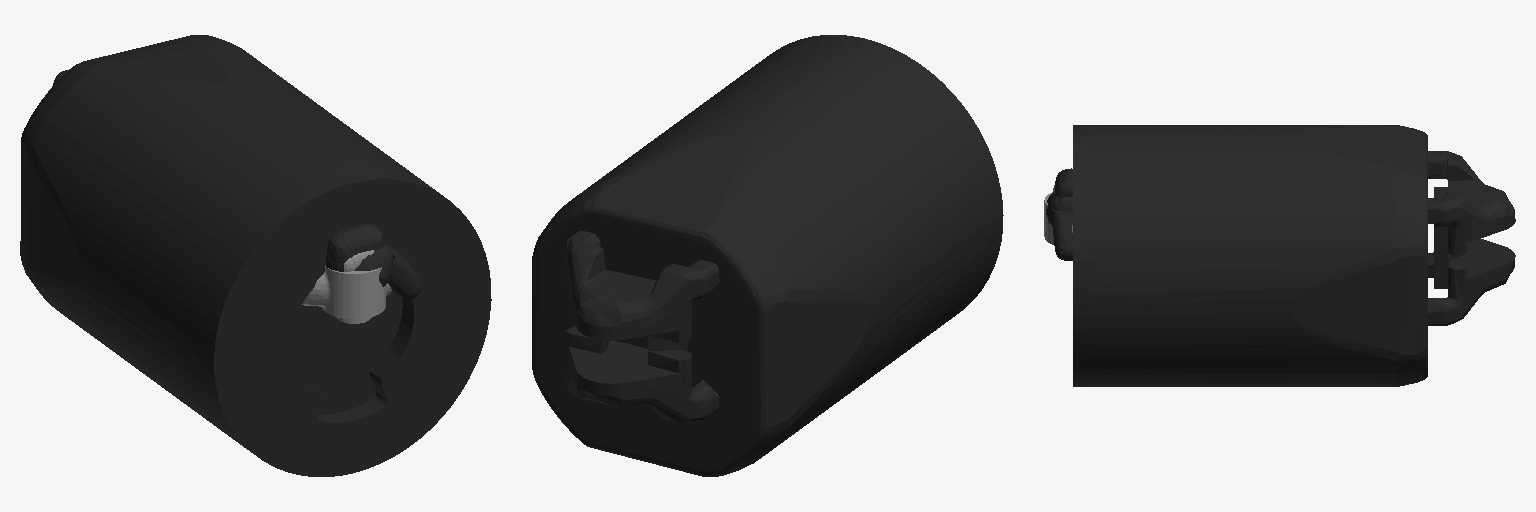
robot.urdf — shadowhand:
<?xml version="1.0" ?>
<robot name="shadowhand">
  <material name="Blue">
    <color rgba="0.0 0.0 0.8 1.0" />
  </material>
  <material name="Green">
    <color rgba="0.0 0.8 0.0 1.0" />
  </material>
  <material name="Grey">
    <color rgba="0.2 0.2 0.2 1.0" />
  </material>
  <material name="LightGrey">
    <color rgba="0.6 0.6 0.6 1.0" />
  </material>
  <material name="Red">
    <color rgba="0.8 0.0 0.0 1.0" />
  </material>
  <material name="White">
    <color rgba="1.0 1.0 1.0 1.0" />
  </material>
  <link name="forearm">
    <inertial>
      <origin rpy="0 0 0" xyz="0 0 0.09" />
      <mass value="3.0" />
      <inertia ixx="1.0" ixy="0.0" ixz="0.0" iyy="1.0" iyz="0.0" izz="1.0" />
    </inertial>
    <visual>
      <origin rpy="0 0 0" xyz="0 0 0" />
      <geometry name="shadow_forearm_geom">
        <mesh filename="meshes/forearm.obj"/>
      </geometry>
      <material name="Grey" />
    </visual>
    <collision>
      <origin rpy="0 0 0" xyz="0 0 0.09" />
      <geometry name="shadow_forearm_collision">
        <cylinder length="0.180" radius="0.06" />
      </geometry>
    </collision>
  </link>
  <link name="wrist">
    <inertial>
      <origin rpy="0 0 0" xyz="0 0.0 0.0" />
      <mass value="0.1" />
      <inertia ixx="0.120" ixy="0.0" ixz="0.0" iyy="0.148" iyz="0.0" izz="0.0438" />
    </inertial>
    <visual>
      <origin rpy="0 0 0" xyz="0 0 0" />
      <geometry name="wrist_visual">
        <mesh filename="meshes/wrist.obj"/>
      </geometry>
      <material name="LightGrey" />
    </visual>
    <collision>
      <origin rpy="0 0 0" xyz="0 0 0" />
      <geometry name="wrist_collision_geom">
        <box size="0.02 0.02 0.02" />
      </geometry>
    </collision>
  </link>
  <joint name="WRJ2" type="revolute">
    <parent link="forearm" />
    <child link="wrist" />
    <origin rpy="0 0 0" xyz="0 -0.010 0.213" />
    <axis xyz="0 1 0" />
    <limit effort="5" lower="-0.52359877559829882" upper="0.17453292519943295" velocity="1.0" />
    <dynamics damping="100.5" />
  </joint>
  <link name="palm">
    <inertial>
      <origin rpy="0 0 0" xyz="0 0 0.035" />
      <mass value="0.3" />
      <inertia ixx="0.5" ixy="0.0" ixz="0.0" iyy="0.5" iyz="0.0" izz="0.3" />
    </inertial>
    <visual>
      <origin rpy="0 0 0" xyz="0 0 0" />
      <geometry name="palm_visual">
        <mesh filename="meshes/palm.obj"/>
      </geometry>
      <material name="Grey" />
    </visual>
    <collision>
      <origin rpy="0 0 0" xyz="0.005 0 0.035" />
      <geometry name="palm_collision_geom">
        <box size="0.05 0.02 0.07" />
      </geometry>
    </collision>
  </link>
  <joint name="WRJ1" type="revolute">
    <parent link="wrist" />
    <child link="palm" />
    <origin rpy="0 0 0" xyz="0 0 0.034" />
    <axis xyz="1 0 0" />
    <limit effort="5" lower="-0.78539816339744828" upper="0.6108652381980153" velocity="1.0" />
    <dynamics damping="100.5" />
  </joint>
  <link name="ffknuckle">
    <inertial>
      <origin rpy="0 0 0" xyz="0 0 0" />

      <mass value="0.008" />
      <inertia ixx="0.0" ixy="0.0" ixz="0.0" iyy="0.1" iyz="0.0" izz="0.0" />
    </inertial>
    <visual>
      <origin rpy="0 0 0" xyz="0 0 0.0005" />
      <geometry name="knuckle_visual">
        <mesh filename="meshes/knuckle.obj"/>
      </geometry>
      <material name="LightGrey" />
    </visual>
    <collision>
      <origin rpy="0 0 0" xyz="0 0 0" />
      <geometry name="knuckle_collision_geom">
        <box size="0.005 0.005 0.005" />
      </geometry>
    </collision>
  </link>
  <joint name="FFJ4" type="revolute">
    <parent link="palm" />
    <child link="ffknuckle" />

    <origin rpy="0 0 0" xyz="0.033 0 0.095" />
    <axis xyz="0 -1 0" />
    <limit effort="100" lower="-0.43633231299858238" upper="0.43633231299858238" velocity="1.0" />
    <dynamics damping="50.5" />
  </joint>
  <link name="ffproximal">
    <inertial>
      <mass value="0.014" />
      <origin xyz="0 0 0.0225" />
      <inertia ixx="0.1" ixy="0.0" ixz="0.0" iyy="0.1" iyz="0.0" izz="0.0" />
    </inertial>
    <visual>
      <origin rpy="0 0 0" xyz="0 0 0" />
      <geometry name="proximal_visual">
        <mesh filename="meshes/F3.obj"/>
      </geometry>
      <material name="Grey" />
    </visual>
    <collision>
      <origin rpy="0 0 0 " xyz="0 0 0.025" />
      <geometry name="proximal_collision_geom">
        <box size="0.008 0.008 0.04" />
      </geometry>
    </collision>
  </link>
  <joint name="FFJ3" type="revolute">
    <parent link="ffknuckle" />
    <child link="ffproximal" />
    <origin rpy="0 0 0" xyz="0 0 0" />
    <axis xyz="1 0 0" />
    <limit effort="100" lower="0" upper="1.57079632679" velocity="1.0" />
    <dynamics damping="50.5" />
  </joint>
  <link name="ffmiddle">
    <inertial>
      <origin rpy="0 0 0" xyz="0 0 0.0125" />
      <mass value="0.012" />
      <inertia ixx="0.1" ixy="0.0" ixz="0.0" iyy="0.1" iyz="0.0" izz="0.0" />
    </inertial>
    <visual>
      <origin rpy="0 0 0" xyz="0 0 0" />
      <geometry name="middle_visual">
        <mesh filename="meshes/F2.obj"/>
      </geometry>
      <material name="Grey" />
    </visual>
    <collision>
      <origin rpy="0 0 0" xyz="0 0 0.0125" />
      <geometry name="middle_collision_geom">
        <box size="0.008 0.008 0.015" />
      </geometry>
    </collision>
  </link>
  <joint name="FFJ2" type="revolute">
    <parent link="ffproximal" />
    <child link="ffmiddle" />
    <origin rpy="0 0 0" xyz="0 0 0.045" />
    <axis xyz="1 0 0" />
    <limit effort="100" lower="0" upper="1.57079632679" velocity="1.0" />
    <dynamics damping="50.5" />
  </joint>
  <link name="ffdistal">
    <inertial>
      <mass value="0.010" />
      <origin xyz="0 0 0.013" />
      <inertia ixx="0.1" ixy="0.0" ixz="0.0" iyy="0.1" iyz="0.0" izz="0.0" />
    </inertial>
    <visual>
      <origin rpy="0 0 0" xyz="0 0 0" />
      <geometry name="distal_visual">
        <mesh filename="meshes/F1.obj"/>
      </geometry>
      <material name="Grey" />
    </visual>
    <collision>
      <origin rpy="0 0 0" xyz="0 0 0" />
      <geometry name="distal_collision_geom">
        <mesh filename="meshes/F1.obj"/>
      </geometry>
    </collision>
  </link>
  <joint name="FFJ1" type="revolute">
    <parent link="ffmiddle" />
    <child link="ffdistal" />
    <origin rpy="0 0 0" xyz="0 0 0.025" />
    <axis xyz="1 0 0" />
    <limit effort="100" lower="0" upper="1.57079632679" velocity="1.0" />
    <dynamics damping="50.5" />
  </joint>
  <link name="mfknuckle">
    <inertial>
      <origin rpy="0 0 0" xyz="0 0 0" />
      <mass value="0.008" />
      <inertia ixx="0.0" ixy="0.0" ixz="0.0" iyy="0.1" iyz="0.0" izz="0.0" />
    </inertial>
    <visual>
      <origin rpy="0 0 0" xyz="0 0 0.0005" />
      <geometry name="knuckle_visual">
        <mesh filename="meshes/knuckle.obj"/>
      </geometry>
      <material name="LightGrey" />
    </visual>
    <collision>
      <origin rpy="0 0 0" xyz="0 0 0" />
      <geometry name="knuckle_collision_geom">
        <box size="0.005 0.005 0.005" />
      </geometry>
    </collision>
  </link>
  <joint name="MFJ4" type="revolute">
    <parent link="palm" />
    <child link="mfknuckle" />
    <origin rpy="0 0 0" xyz="0.011 0 0.099" />
    <axis xyz="0 -1 0" />
    <limit effort="100" lower="-0.43633231299858238" upper="0.43633231299858238" velocity="1.0" />
    <dynamics damping="50.5" />
  </joint>
  <link name="mfproximal">
    <inertial>
      <mass value="0.014" />
      <origin xyz="0 0 0.0225" />
      <inertia ixx="0.1" ixy="0.0" ixz="0.0" iyy="0.1" iyz="0.0" izz="0.0" />
    </inertial>
    <visual>
      <origin rpy="0 0 0" xyz="0 0 0" />
      <geometry name="proximal_visual">
        <mesh filename="meshes/F3.obj"/>
      </geometry>
      <material name="Grey" />
    </visual>
    <collision>
      <origin rpy="0 0 0 " xyz="0 0 0.025" />
      <geometry name="proximal_collision_geom">
        <box size="0.008 0.008 0.04" />
      </geometry>
    </collision>
  </link>
  <joint name="MFJ3" type="revolute">
    <parent link="mfknuckle" />
    <child link="mfproximal" />
    <origin rpy="0 0 0" xyz="0 0 0" />
    <axis xyz="1 0 0" />
    <limit effort="100" lower="0" upper="1.57079632679" velocity="1.0" />
    <dynamics damping="50.5" />
  </joint>
  <link name="mfmiddle">
    <inertial>
      <origin rpy="0 0 0" xyz="0 0 0.0125" />
      <mass value="0.012" />
      <inertia ixx="0.1" ixy="0.0" ixz="0.0" iyy="0.1" iyz="0.0" izz="0.0" />
    </inertial>
    <visual>
      <origin rpy="0 0 0" xyz="0 0 0" />
      <geometry name="middle_visual">
        <mesh filename="meshes/F2.obj"/>
      </geometry>
      <material name="Grey" />
    </visual>
    <collision>
      <origin rpy="0 0 0" xyz="0 0 0.0125" />
      <geometry name="middle_collision_geom">
        <box size="0.008 0.008 0.015" />
      </geometry>
    </collision>
  </link>
  <joint name="MFJ2" type="revolute">
    <parent link="mfproximal" />
    <child link="mfmiddle" />
    <origin rpy="0 0 0" xyz="0 0 0.045" />
    <axis xyz="1 0 0" />
    <limit effort="100" lower="0" upper="1.57079632679" velocity="1.0" />
    <dynamics damping="50.5" />
  </joint>
  <link name="mfdistal">
    <inertial>
      <mass value="0.010" />
      <origin xyz="0 0 0.013" />
      <inertia ixx="0.1" ixy="0.0" ixz="0.0" iyy="0.1" iyz="0.0" izz="0.0" />
    </inertial>
    <visual>
      <origin rpy="0 0 0" xyz="0 0 0" />
      <geometry name="distal_visual">
        <mesh filename="meshes/F1.obj"/>
      </geometry>
      <material name="Grey" />
    </visual>
    <collision>
      <origin rpy="0 0 0" xyz="0 0 0" />
      <geometry name="distal_collision_geom">
        <mesh filename="meshes/F1.obj"/>
      </geometry>
    </collision>
  </link>
  <joint name="MFJ1" type="revolute">
    <parent link="mfmiddle" />
    <child link="mfdistal" />
    <origin rpy="0 0 0" xyz="0 0 0.025" />
    <axis xyz="1 0 0" />
    <limit effort="100" lower="0" upper="1.57079632679" velocity="1.0" />
    <dynamics damping="50.5" />
  </joint>
  <link name="rfknuckle">
    <inertial>
      <origin rpy="0 0 0" xyz="0 0 0" />
      <mass value="0.008" />
      <inertia ixx="0.0" ixy="0.0" ixz="0.0" iyy="0.1" iyz="0.0" izz="0.0" />
    </inertial>
    <visual>
      <origin rpy="0 0 0" xyz="0 0 0.0005" />
      <geometry name="knuckle_visual">
        <mesh filename="meshes/knuckle.obj"/>
      </geometry>
      <material name="LightGrey" />
    </visual>
    <collision>
      <origin rpy="0 0 0" xyz="0 0 0" />
      <geometry name="knuckle_collision_geom">
        <box size="0.005 0.005 0.005" />
      </geometry>
    </collision>
  </link>
  <joint name="RFJ4" type="revolute">
    <parent link="palm" />
    <child link="rfknuckle" />
    <origin rpy="0 0 0" xyz="-0.011 0 0.095" />
    <axis xyz="0 1 0" />
    <limit effort="100" lower="-0.43633231299858238" upper="0.43633231299858238" velocity="1.0" />
    <dynamics damping="50.5" />
  </joint>
  <link name="rfproximal">
    <inertial>
      <mass value="0.014" />
      <origin xyz="0 0 0.0225" />
      <inertia ixx="0.1" ixy="0.0" ixz="0.0" iyy="0.1" iyz="0.0" izz="0.0" />
    </inertial>
    <visual>
      <origin rpy="0 0 0" xyz="0 0 0" />
      <geometry name="proximal_visual">
        <mesh filename="meshes/F3.obj"/>
      </geometry>
      <material name="Grey" />
    </visual>
    <collision>
      <origin rpy="0 0 0 " xyz="0 0 0.025" />
      <geometry name="proximal_collision_geom">
        <box size="0.008 0.008 0.04" />
      </geometry>
    </collision>
  </link>
  <joint name="RFJ3" type="revolute">
    <parent link="rfknuckle" />
    <child link="rfproximal" />
    <origin rpy="0 0 0" xyz="0 0 0" />
    <axis xyz="1 0 0" />
    <limit effort="100" lower="0" upper="1.57079632679" velocity="1.0" />
    <dynamics damping="50.5" />
  </joint>
  <link name="rfmiddle">
    <inertial>
      <origin rpy="0 0 0" xyz="0 0 0.0125" />
      <mass value="0.012" />
      <inertia ixx="0.1" ixy="0.0" ixz="0.0" iyy="0.1" iyz="0.0" izz="0.0" />
    </inertial>
    <visual>
      <origin rpy="0 0 0" xyz="0 0 0" />
      <geometry name="middle_visual">
        <mesh filename="meshes/F2.obj"/>
      </geometry>
      <material name="Grey" />
    </visual>
    <collision>
      <origin rpy="0 0 0" xyz="0 0 0.0125" />
      <geometry name="middle_collision_geom">
        <box size="0.008 0.008 0.015" />
      </geometry>
    </collision>
  </link>
  <joint name="RFJ2" type="revolute">
    <parent link="rfproximal" />
    <child link="rfmiddle" />
    <origin rpy="0 0 0" xyz="0 0 0.045" />
    <axis xyz="1 0 0" />
    <limit effort="100" lower="0" upper="1.57079632679" velocity="1.0" />
    <dynamics damping="50.5" />
  </joint>
  <link name="rfdistal">
    <inertial>
      <mass value="0.010" />
      <origin xyz="0 0 0.013" />
      <inertia ixx="0.1" ixy="0.0" ixz="0.0" iyy="0.1" iyz="0.0" izz="0.0" />
    </inertial>
    <visual>
      <origin rpy="0 0 0" xyz="0 0 0" />
      <geometry name="distal_visual">
        <mesh filename="meshes/F1.obj"/>
      </geometry>
      <material name="Grey" />
    </visual>

    <collision>
      <origin rpy="0 0 0" xyz="0 0 0" />
      <geometry name="distal_collision_geom">
        <mesh filename="meshes/F1.obj"/>
      </geometry>
    </collision>
  </link>
  <joint name="RFJ1" type="revolute">
    <parent link="rfmiddle" />
    <child link="rfdistal" />
    <origin rpy="0 0 0" xyz="0 0 0.025" />
    <axis xyz="1 0 0" />
    <limit effort="100" lower="0" upper="1.57079632679" velocity="1.0" />
    <dynamics damping="50.5" />
  </joint>
  <link name="lfmetacarpal">
    <inertial>
      <origin rpy="0 0 0" xyz="0 0 0.04" />
      <mass value="0.075" />
      <inertia ixx="0.1" ixy="0.0" ixz="0.0" iyy="0.1" iyz="0.0" izz="0.1" />
    </inertial>
    <visual>
      <origin rpy="0 0 0" xyz="0 0 0" />
      <geometry name="lfmetacarpal_visual">
        <mesh filename="meshes/lfmetacarpal.obj"/>
      </geometry>
      <material name="Grey" />
    </visual>
    <collision>
      <origin rpy="0 0 0" xyz="0 0 0.04" />
      <geometry name="lfmetacarpal_collision_geom">
        <box size="0.008 0.008 0.03" />
      </geometry>
    </collision>
  </link>
  <joint name="LFJ5" type="revolute">
    <parent link="palm" />
    <child link="lfmetacarpal" />
    <origin rpy="0 0 0" xyz="-0.033 0 0.02071" />
    <axis xyz="0.573576436 0 0.819152044" />
    <limit effort="100" lower="0" upper="0.69813170079773179" velocity="1.0" />
    <dynamics damping="50.5" />
  </joint>
  <link name="lfknuckle">
    <inertial>
      <origin rpy="0 0 0" xyz="0 0 0.06579" />
      <mass value="0.008" />
      <inertia ixx="0.1" ixy="0.0" ixz="0.0" iyy="0.1" iyz="0.0" izz="0.1" />
    </inertial>
    <visual>
      <origin rpy="0 0 0" xyz="0 0 0" />
      <geometry name="knuckle_visual">
        <mesh filename="meshes/knuckle.obj"/>
      </geometry>
      <material name="LightGrey" />
    </visual>
    <collision>
      <origin rpy="0 0 0" xyz="0 0 0" />
      <geometry name="knuckle_collision_geom">
        <box size="0.005 0.005 0.005" />
      </geometry>
    </collision>
  </link>
  <joint name="LFJ4" type="revolute">
    <parent link="lfmetacarpal" />
    <child link="lfknuckle" />
    <origin rpy="0 0 0" xyz="0 0 0.06579" />
    <axis xyz="0 1 0" />
    <limit effort="100" lower="-0.43633231299858238" upper="0.43633231299858238" velocity="1.0" />
    <dynamics damping="50.5" />
  </joint>
  <link name="lfproximal">
    <inertial>
      <mass value="0.014" />
      <origin xyz="0 0 0.0225" />
      <inertia ixx="0.1" ixy="0.0" ixz="0.0" iyy="0.1" iyz="0.0" izz="0.0" />
    </inertial>
    <visual>
      <origin rpy="0 0 0" xyz="0 0 0" />
      <geometry name="proximal_visual">
        <mesh filename="meshes/F3.obj"/>
      </geometry>
      <material name="Grey" />
    </visual>
    <collision>
      <origin rpy="0 0 0 " xyz="0 0 0.025" />
      <geometry name="proximal_collision_geom">
        <box size="0.008 0.008 0.04" />
      </geometry>
    </collision>
  </link>
  <joint name="LFJ3" type="revolute">
    <parent link="lfknuckle" />
    <child link="lfproximal" />
    <origin rpy="0 0 0" xyz="0 0 0" />
    <axis xyz="1 0 0" />
    <limit effort="100" lower="0" upper="1.57079632679" velocity="1.0" />
    <dynamics damping="50.5" />
  </joint>
  <link name="lfmiddle">
    <inertial>
      <origin rpy="0 0 0" xyz="0 0 0.0125" />
      <mass value="0.012" />
      <inertia ixx="0.1" ixy="0.0" ixz="0.0" iyy="0.1" iyz="0.0" izz="0.0" />
    </inertial>
    <visual>
      <origin rpy="0 0 0" xyz="0 0 0" />
      <geometry name="middle_visual">
        <mesh filename="meshes/F2.obj"/>
      </geometry>
      <material name="Grey" />
    </visual>
    <collision>
      <origin rpy="0 0 0" xyz="0 0 0.0125" />
      <geometry name="middle_collision_geom">
        <box size="0.008 0.008 0.015" />
      </geometry>
    </collision>
  </link>
  <joint name="LFJ2" type="revolute">
    <parent link="lfproximal" />
    <child link="lfmiddle" />
    <origin rpy="0 0 0" xyz="0 0 0.045" />
    <axis xyz="1 0 0" />
    <limit effort="100" lower="0" upper="1.57079632679" velocity="1.0" />
    <dynamics damping="50.5" />
  </joint>
  <link name="lfdistal">
    <inertial>
      <mass value="0.010" />
      <origin xyz="0 0 0.013" />
      <inertia ixx="0.1" ixy="0.0" ixz="0.0" iyy="0.1" iyz="0.0" izz="0.0" />
    </inertial>
    <visual>
      <origin rpy="0 0 0" xyz="0 0 0" />
      <geometry name="distal_visual">
        <mesh filename="meshes/F1.obj"/>
      </geometry>
      <material name="Grey" />
    </visual>

    <collision>
      <origin rpy="0 0 0" xyz="0 0 0" />
      <geometry name="distal_collision_geom">
        <mesh filename="meshes/F1.obj"/>
      </geometry>
    </collision>
  </link>
  <joint name="LFJ1" type="revolute">
    <parent link="lfmiddle" />
    <child link="lfdistal" />
    <origin rpy="0 0 0" xyz="0 0 0.025" />
    <axis xyz="1 0 0" />
    <limit effort="100" lower="0" upper="1.57079632679" velocity="1.0" />
    <dynamics damping="50.5" />
  </joint>
  <link name="thbase">
    <inertial>
      <mass value="0.010" />
      <origin rpy="0 0 0" xyz="0 0 0" />
      <inertia ixx="0.0" ixy="0.0" ixz="0.0" iyy="0.0" iyz="0.0" izz="0.1" />
    </inertial>
    <visual>
      <origin rpy="0 0 0" xyz="0 0 0" />
      <geometry name="thbase_visual">
        <box size="0.001 0.001 0.001" />
      </geometry>
      <material name="shadow_thbase_material">
        <color rgba="0.5 0.5 0.5 1.0" />
      </material>
    </visual>
    <collision>
      <origin rpy="0 0 0 " xyz="0 0 0" />
      <geometry name="thbase_collision_geom">
        <box size="0.001 0.001 0.001" />
      </geometry>
    </collision>
  </link>
  <joint name="THJ5" type="revolute">
    <parent link="palm" />
    <child link="thbase" />
    <origin rpy="0 0.785398163397 0" xyz="0.034 -0.0085 0.029" />
    <axis xyz="0 0 -1.0" />
    <limit effort="100" lower="-1.047" upper="1.047" velocity="1.0" />
    <dynamics damping="50.5" />
  </joint>
  <link name="thproximal">
    <inertial>
      <mass value="0.016" />
      <origin rpy="0 0 0" xyz="0 0 0.019" />
      <inertia ixx="0.1" ixy="0.0" ixz="0.0" iyy="0.1" iyz="0.0" izz="0.1" />
    </inertial>
    <visual>
      <origin rpy="0 0 0" xyz="0 0 0" />
      <geometry name="thproximal_visual">
        <mesh filename="meshes/TH3_z.obj"/>
      </geometry>
      <material name="shadow_thproximal_material">
        <color rgba="0.2 0.2 0.2 1.0" />
      </material>
    </visual>
    <collision>
      <origin rpy="0 0 0" xyz="0 0 0.019" />
      <geometry name="thproximal_collision_geom">
        <box size="0.008 0.008 0.020" />
      </geometry>
    </collision>
  </link>
  <joint name="THJ4" type="revolute">
    <parent link="thbase" />
    <child link="thproximal" />
    <origin rpy="0 0 0" xyz="0 0 0" />
    <axis xyz="1.0 0 0" />
    <limit effort="100" lower="0" upper="1.309" velocity="1.0" />
    <dynamics damping="50.5" />
  </joint>
  <link name="thhub">
    <inertial>
      <mass value="0.002" />
      <origin rpy="0 0 0" xyz="0 0 0" />
      <inertia ixx="0.1" ixy="0.0" ixz="0.0" iyy="0.1" iyz="0.0" izz="0.1" />
    </inertial>
    <visual>
      <origin rpy="0 0 0" xyz="0 0 0" />
      <geometry name="thhub_visual">
        <box size="0.001 0.001 0.001" />
      </geometry>
      <material name="shadow_thhub_material">
        <color rgba="0.7 0.7 0.7 1.0" />
      </material>
    </visual>
    <collision>
      <origin rpy="0 0 0 " xyz="0 0 0" />
      <geometry name="thhub_collision_geom">
        <box size="0.001 0.001 0.001" />
      </geometry>
    </collision>
  </link>
  <joint name="THJ3" type="revolute">
    <parent link="thproximal" />
    <child link="thhub" />
    <origin rpy="0 0 0" xyz="0 0 0.038" />
    <axis xyz="1 0 0" />
    <limit effort="100" lower="-0.2618" upper="0.2618" velocity="1.0" />
    <dynamics damping="50.5" />
  </joint>
  <link name="thmiddle">
    <inertial>
      <mass value="0.016" />
      <origin rpy="0 0 0" xyz="0 0 0.016" />
      <inertia ixx="0.1" ixy="0.0" ixz="0.0" iyy="0.1" iyz="0.0" izz="0.1" />
    </inertial>
    <visual>
      <origin rpy="0 0 0" xyz="0 0 0" />
      <geometry name="thmiddle_visual">
        <mesh filename="meshes/TH2_z.obj"/>
      </geometry>
      <material name="shadow_thmiddle_material">
        <color rgba="0.2 0.2 0.2 1.0" />
      </material>
    </visual>
    <collision>
      <origin rpy="0 0 0 " xyz="0 0 0.016" />
      <geometry name="thmiddle_collision_geom">
        <box size="0.008 0.008 0.015" />
      </geometry>
    </collision>
  </link>
  <joint name="THJ2" type="revolute">
    <parent link="thhub" />
    <child link="thmiddle" />
    <origin rpy="0 0 0" xyz="0 0 0" />
    <axis xyz="0 -1 0" />
    <limit effort="100" lower="-0.5237" upper="0.5237" velocity="1.0" />
    <dynamics damping="50.5" />
  </joint>
  <link name="thdistal">
    <inertial>
      <mass value="0.016" />
      <origin rpy="0 0 0" xyz="0 0 0.01375" />
      <inertia ixx="0.1" ixy="0.0" ixz="0.0" iyy="0.1" iyz="0.0" izz="0.1" />
    </inertial>
    <visual>
      <origin rpy="0 0 0" xyz="0 0.002 0.0025" />
      <geometry name="thdistal_visual">
        <mesh filename="meshes/F1.obj"/>
      </geometry>
      <material name="shadow_thmiddle_material">
        <color rgba="0.2 0.2 0.2 1.0" />
      </material>
    </visual>
    <collision>
      <origin rpy="0 0 0 " xyz="0 0.002 0.0025" />
      <geometry name="thmiddle_collision_geom">
        <mesh filename="meshes/F1.obj"/>
      </geometry>
    </collision>
  </link>
  <joint name="THJ1" type="revolute">
    <parent link="thmiddle" />
    <child link="thdistal" />
    <origin rpy="0 0 -1.570796327" xyz="0 0 0.032" />
    <axis xyz="1 0 0" />
    <limit effort="100" lower="0" upper="1.571" velocity="1.0" />
    <dynamics damping="50.5" />
  </joint>
</robot>

--- What the picture shows (computed from the rendered views, not written in the file) ---
The picture shows the robot from 3 angles, left to right: view 1: azimuth 30°, elevation 25°; view 2: azimuth 150°, elevation 25°; view 3: azimuth 270°, elevation 25°; orthographic projection.
Robot: shadowhand — 25 links, 24 joints (24 revolute); root link forearm; default pose: every joint at zero.
Visible links, largest first — view 1: forearm, wrist, thdistal, mfmiddle; view 2: forearm; view 3: forearm, thdistal.
Link boxes in pixels (x1,y1,x2,y2): forearm: (20,35,491,476); wrist: (302,266,392,323); thdistal: (388,248,421,298); mfmiddle: (344,224,376,254); forearm: (532,35,1003,476); forearm: (1073,125,1515,386); thdistal: (1052,209,1072,260).
Size in the robot's own frame: 1.35 by 2.42 by 1.35 metres.
22 mesh visuals loaded from 10 distinct referenced files (9 OBJ); not drawn: 1 (reference not matched to a file when rendering).